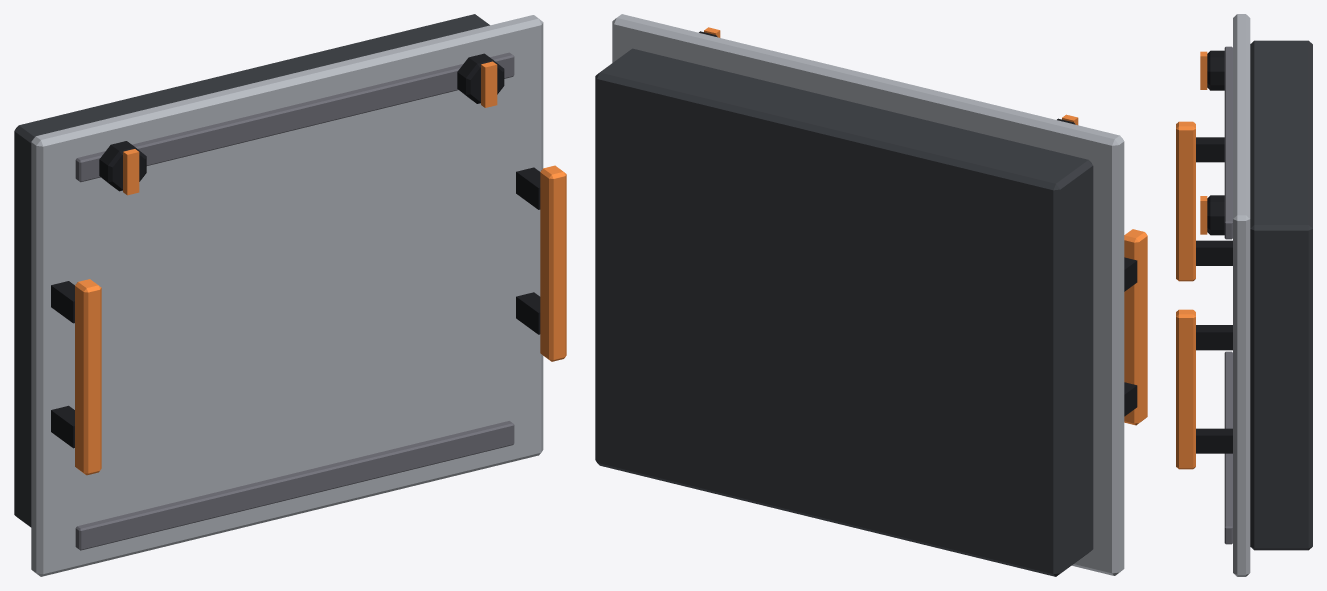
Rendered from science_module_frame.glb.
3 renders of one model, left to right at view 1: azimuth 30°, elevation 25°; view 2: azimuth 150°, elevation 25°; view 3: azimuth 270°, elevation 25°, orthographic. The views are drawn at different scales.
Parts seen in each view (by area): view 1: ScienceModuleFrameBody; view 2: ScienceModuleFrameBody; view 3: ScienceModuleFrameBody.
Boxes of the visible parts, left/top/right/bottom form: ScienceModuleFrameBody: left=14, top=14, right=566, bottom=576; ScienceModuleFrameBody: left=595, top=14, right=1147, bottom=576; ScienceModuleFrameBody: left=1176, top=14, right=1312, bottom=576.
Size of the model in its own units: 0.34 by 0.28 by 0.096.
